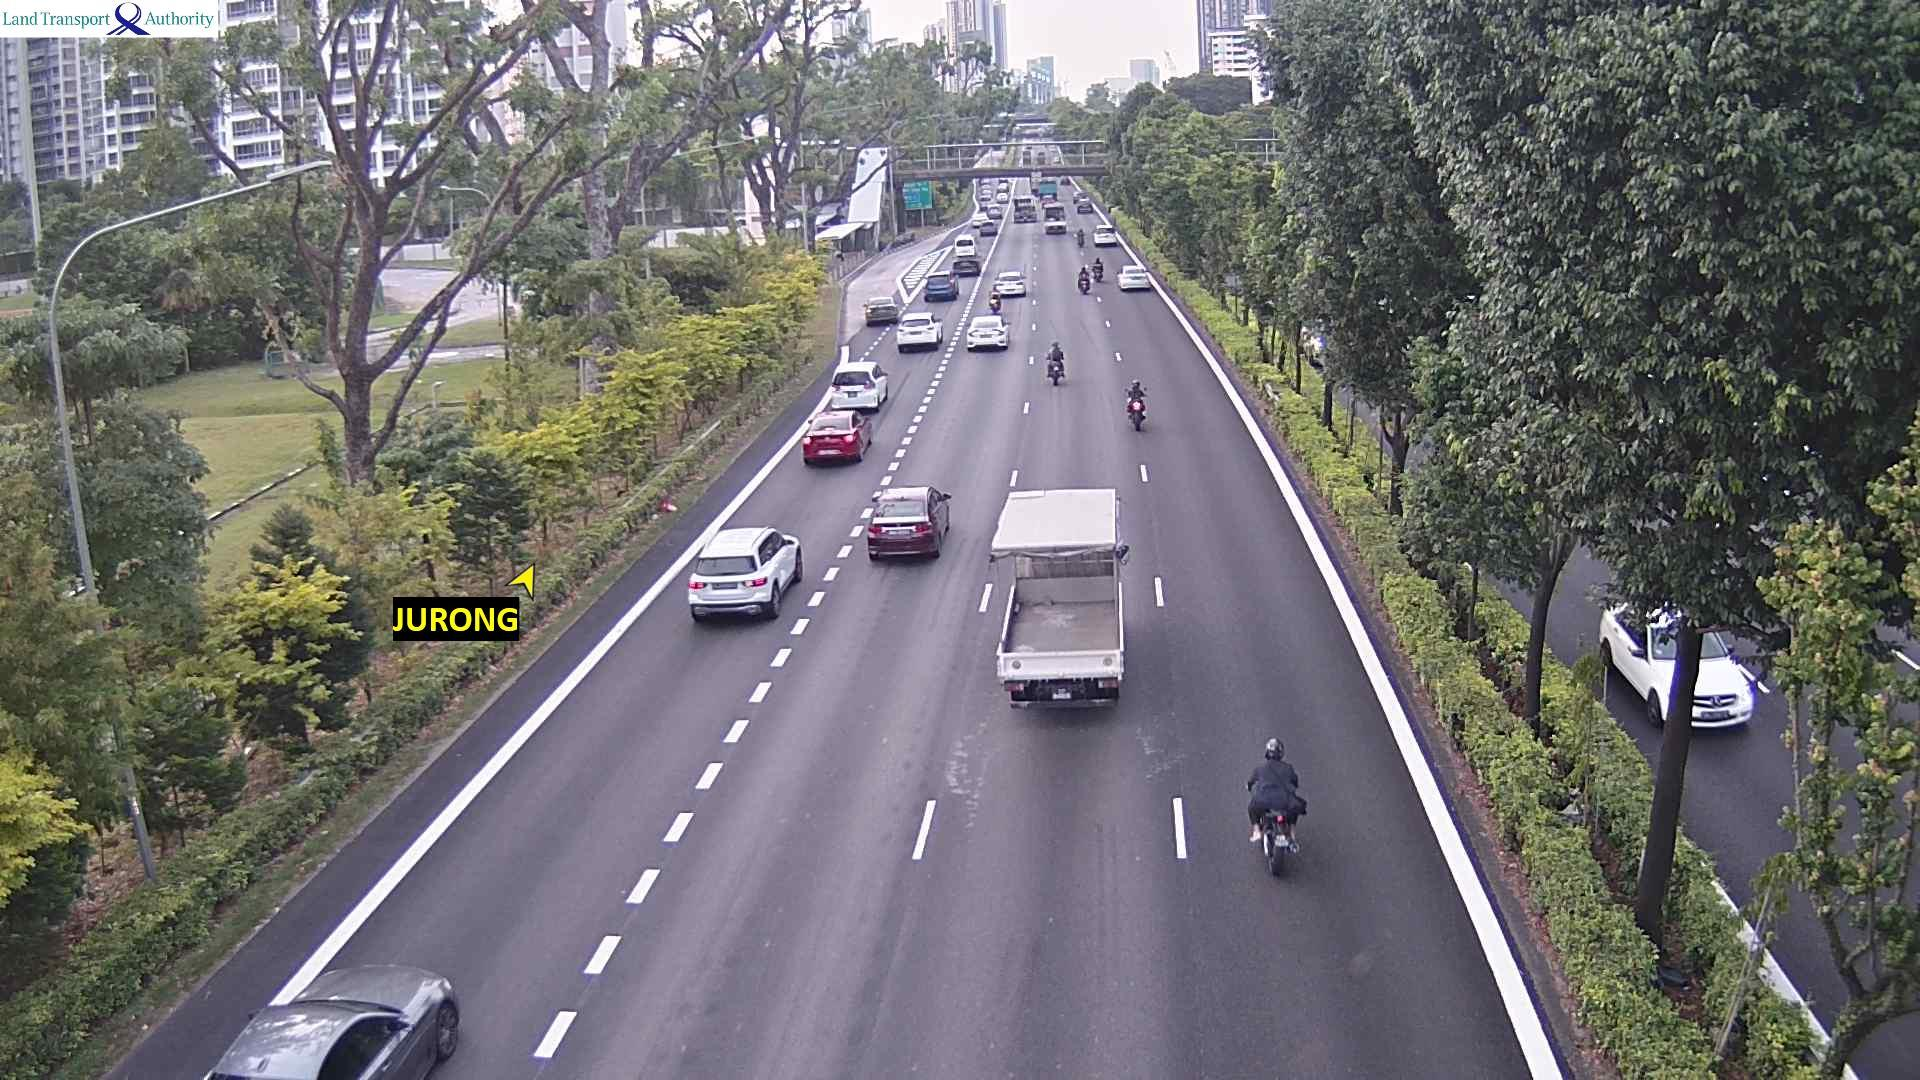cars: (200, 963, 460, 1077), (1597, 597, 1755, 731), (686, 525, 802, 622), (865, 484, 951, 562), (800, 409, 872, 465), (827, 359, 887, 411), (894, 310, 944, 351), (964, 314, 1009, 349), (861, 295, 898, 324), (923, 270, 957, 301), (1116, 262, 1149, 290), (992, 268, 1025, 295), (1042, 203, 1067, 233), (1011, 195, 1036, 222), (1092, 223, 1117, 245), (951, 256, 981, 274), (953, 233, 977, 256), (981, 220, 998, 237), (1077, 198, 1096, 214), (986, 204, 1004, 220), (972, 214, 989, 227), (978, 189, 993, 200), (997, 183, 1011, 194), (996, 193, 1009, 203), (980, 200, 990, 211)
motorcycle: (1246, 782, 1307, 877), (1124, 393, 1147, 431), (1044, 355, 1065, 386), (985, 286, 1004, 314), (1089, 256, 1108, 284), (1077, 266, 1091, 294), (1075, 227, 1087, 249)
trucks: (986, 487, 1129, 709), (1039, 179, 1058, 200)
